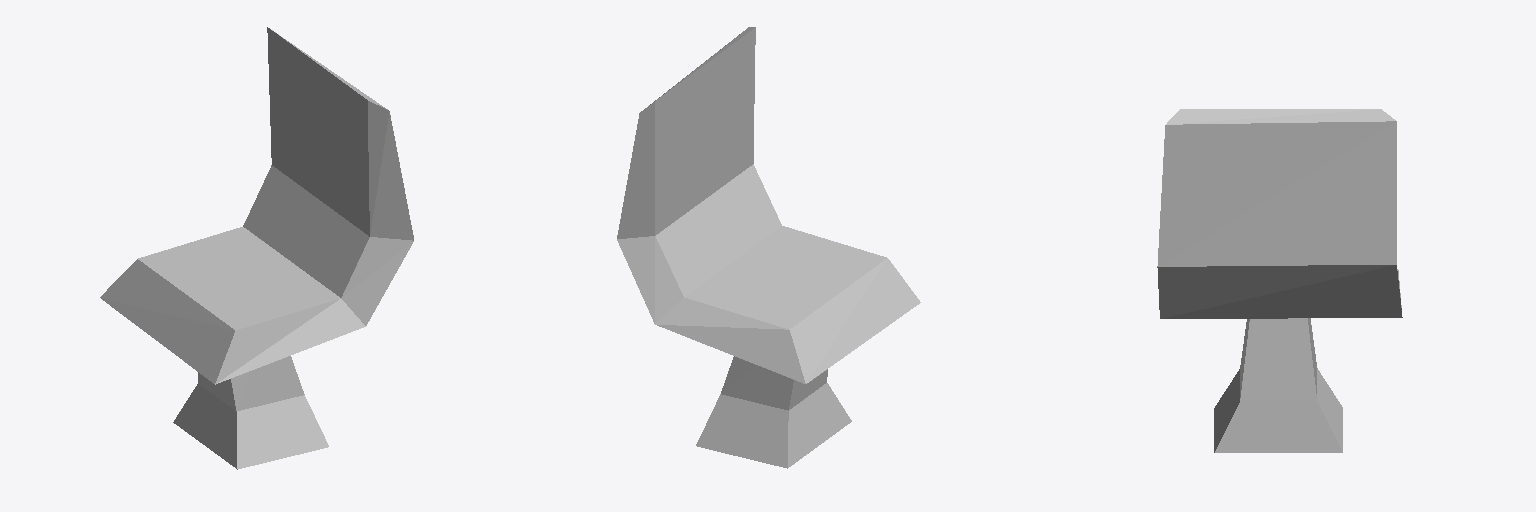
Rendered from chairShip.obj.
The picture shows the model from 3 angles: view 1: azimuth 30°, elevation 25°; view 2: azimuth 150°, elevation 25°; view 3: azimuth 270°, elevation 25°; orthographic projection.
Parts seen in each view (by area): view 1: intr_chair:pCube12; view 2: intr_chair:pCube12; view 3: intr_chair:pCube12.
Part boxes in pixels (x1,y1,x2,y2): intr_chair:pCube12: (100, 27, 413, 469); intr_chair:pCube12: (617, 27, 920, 468); intr_chair:pCube12: (1157, 109, 1402, 452).
Size of the model in its own units: 1.61 by 2.81 by 1.76.